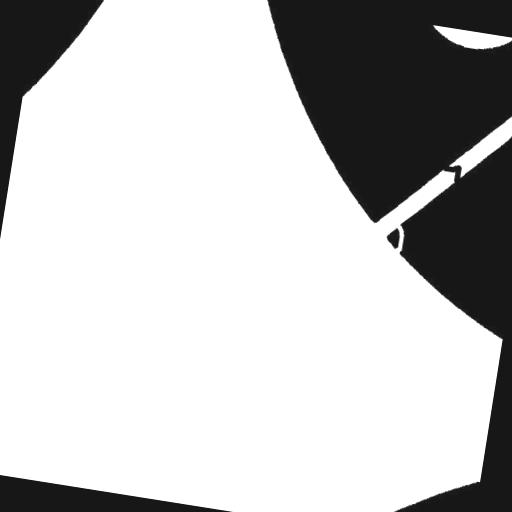open: (384, 216, 413, 262)
short: (430, 153, 471, 196)
